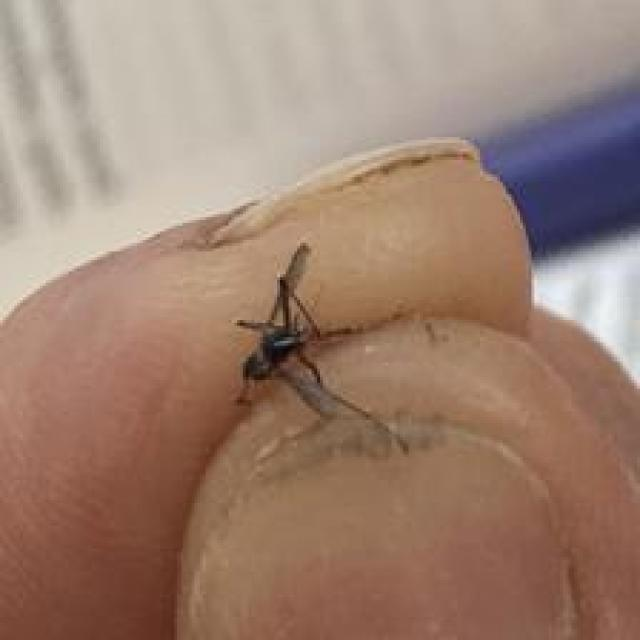Aedes albopictus: (230, 241, 410, 456)
